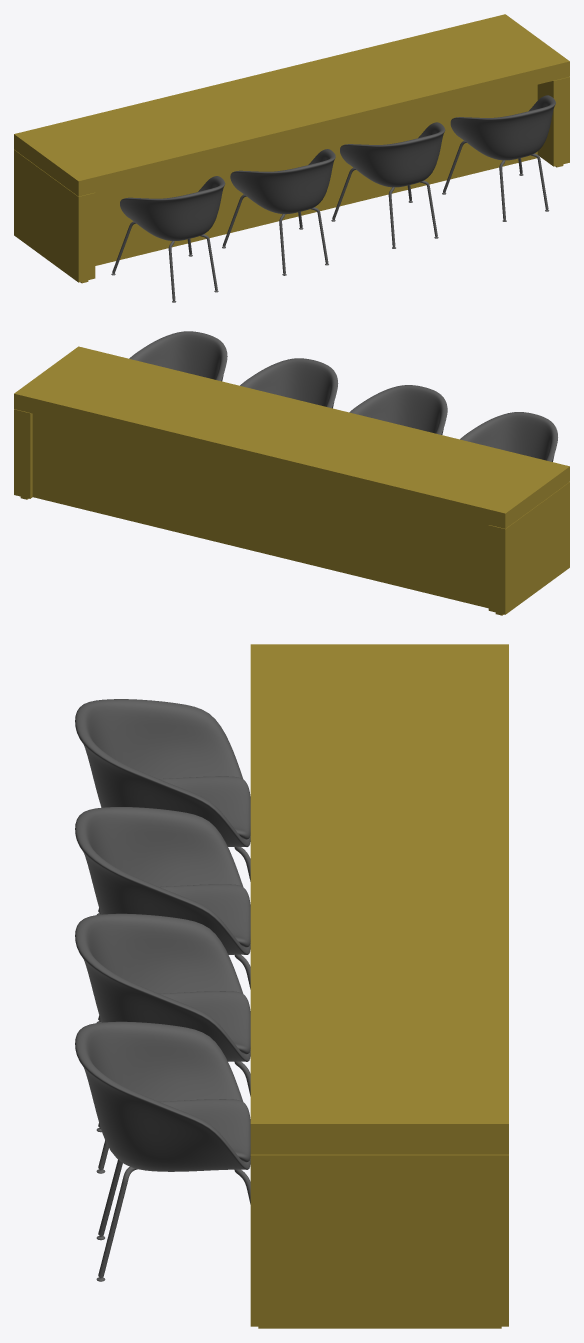
The model's file is barra.FBX.
3 renders of one model, top to bottom at view 1: azimuth 30°, elevation 25°; view 2: azimuth 150°, elevation 25°; view 3: azimuth 270°, elevation 25°, orthographic. The views are drawn at different scales.
Parts seen in each view (by area): view 1: Table_wood, obj_005, obj_01, obj_006, obj_004; view 2: Table_wood, obj_01, obj_004, obj_005, obj_006; view 3: Table_wood, obj_01, obj_004, obj_006, obj_005.
Part boxes in pixels (x1=…): Table_wood: x1=14, y1=14, x2=569, y2=283; obj_005: x1=222, y1=149, x2=335, y2=275; obj_01: x1=442, y1=95, x2=555, y2=221; obj_006: x1=111, y1=176, x2=225, y2=302; obj_004: x1=331, y1=122, x2=445, y2=248; Table_wood: x1=14, y1=346, x2=569, y2=615; obj_01: x1=129, y1=331, x2=227, y2=381; obj_004: x1=240, y1=358, x2=338, y2=408; obj_005: x1=349, y1=385, x2=447, y2=434; obj_006: x1=460, y1=412, x2=557, y2=461; Table_wood: x1=250, y1=644, x2=508, y2=1328; obj_01: x1=75, y1=1021, x2=250, y2=1281; obj_004: x1=75, y1=913, x2=250, y2=1173; obj_006: x1=75, y1=699, x2=250, y2=914; obj_005: x1=75, y1=807, x2=250, y2=1022.
Bounding box in the file's own units: 137 × 28.99 × 52.37.
